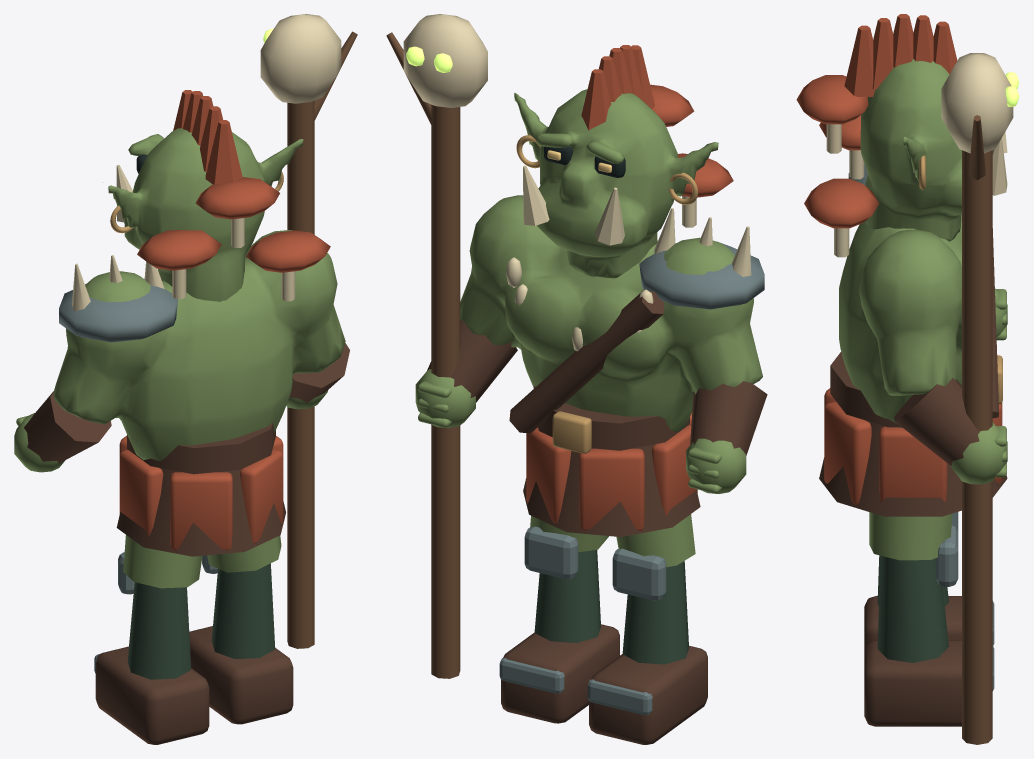
File: host_06.glb
The picture shows the model from 3 angles, left to right: view 1: azimuth 30°, elevation 25°; view 2: azimuth 150°, elevation 25°; view 3: azimuth 270°, elevation 25°; orthographic projection. The views are drawn at different scales.
Visible parts, largest first — view 1: mesh_Skin.002, mesh_Cloth.005, mesh_Leather.002, mesh_Wood.005, mesh_Bone.005, mesh_Leather.005, mesh_Leather.001, mesh_Shadow.005, mesh_Shadow.001, mesh_Iron.002, mesh_Skin.005, mesh_Skin.001; view 2: mesh_Skin.002, mesh_Leather.002, mesh_Wood.005, mesh_Cloth.005, mesh_Bone.005, mesh_Leather.005, mesh_Leather.001, mesh_Shadow.005, mesh_Shadow.001, mesh_Iron.002, mesh_Iron.005, mesh_Iron.001 (+4 smaller); view 3: mesh_Skin.002, mesh_Cloth.005, mesh_Wood.005, mesh_Leather.002, mesh_Bone.005, mesh_Leather.001, mesh_Shadow.001, mesh_Skin.001, mesh_Leather.005, mesh_Iron.001, mesh_Copper.005, mesh_Soul.005.
Part boxes in pixels (x1,y1,x2,y2): mesh_Skin.002: (14, 128, 345, 472); mesh_Cloth.005: (119, 90, 330, 550); mesh_Leather.002: (24, 343, 349, 556); mesh_Wood.005: (287, 31, 357, 648); mesh_Bone.005: (72, 14, 341, 311); mesh_Leather.005: (95, 646, 209, 744); mesh_Leather.001: (189, 626, 293, 724); mesh_Shadow.005: (127, 582, 191, 679); mesh_Shadow.001: (211, 563, 275, 658); mesh_Iron.002: (59, 278, 177, 342); mesh_Skin.005: (123, 535, 202, 588); mesh_Skin.001: (207, 535, 281, 572); mesh_Skin.002: (415, 89, 762, 493); mesh_Leather.002: (427, 290, 767, 536); mesh_Wood.005: (386, 32, 460, 678); mesh_Cloth.005: (526, 45, 733, 530); mesh_Bone.005: (403, 14, 751, 351); mesh_Leather.005: (589, 645, 707, 744); mesh_Leather.001: (501, 624, 619, 723); mesh_Shadow.005: (622, 561, 688, 664); mesh_Shadow.001: (534, 550, 600, 642); mesh_Iron.002: (639, 243, 764, 309); mesh_Iron.005: (587, 548, 666, 715); mesh_Iron.001: (499, 526, 578, 693); mesh_Skin.002: (839, 59, 1007, 484); mesh_Cloth.005: (796, 14, 1002, 505); mesh_Wood.005: (962, 115, 992, 744); mesh_Leather.002: (819, 228, 1007, 516); mesh_Bone.005: (826, 53, 1013, 257); mesh_Leather.001: (864, 640, 961, 726); mesh_Shadow.001: (877, 556, 948, 662); mesh_Skin.001: (869, 512, 952, 560); mesh_Leather.005: (864, 596, 961, 650); mesh_Iron.001: (936, 525, 994, 690); mesh_Copper.005: (919, 155, 1002, 403); mesh_Soul.005: (1005, 72, 1019, 107).
Bounding box in the file's own units: 1.08 × 1.98 × 0.5676.
